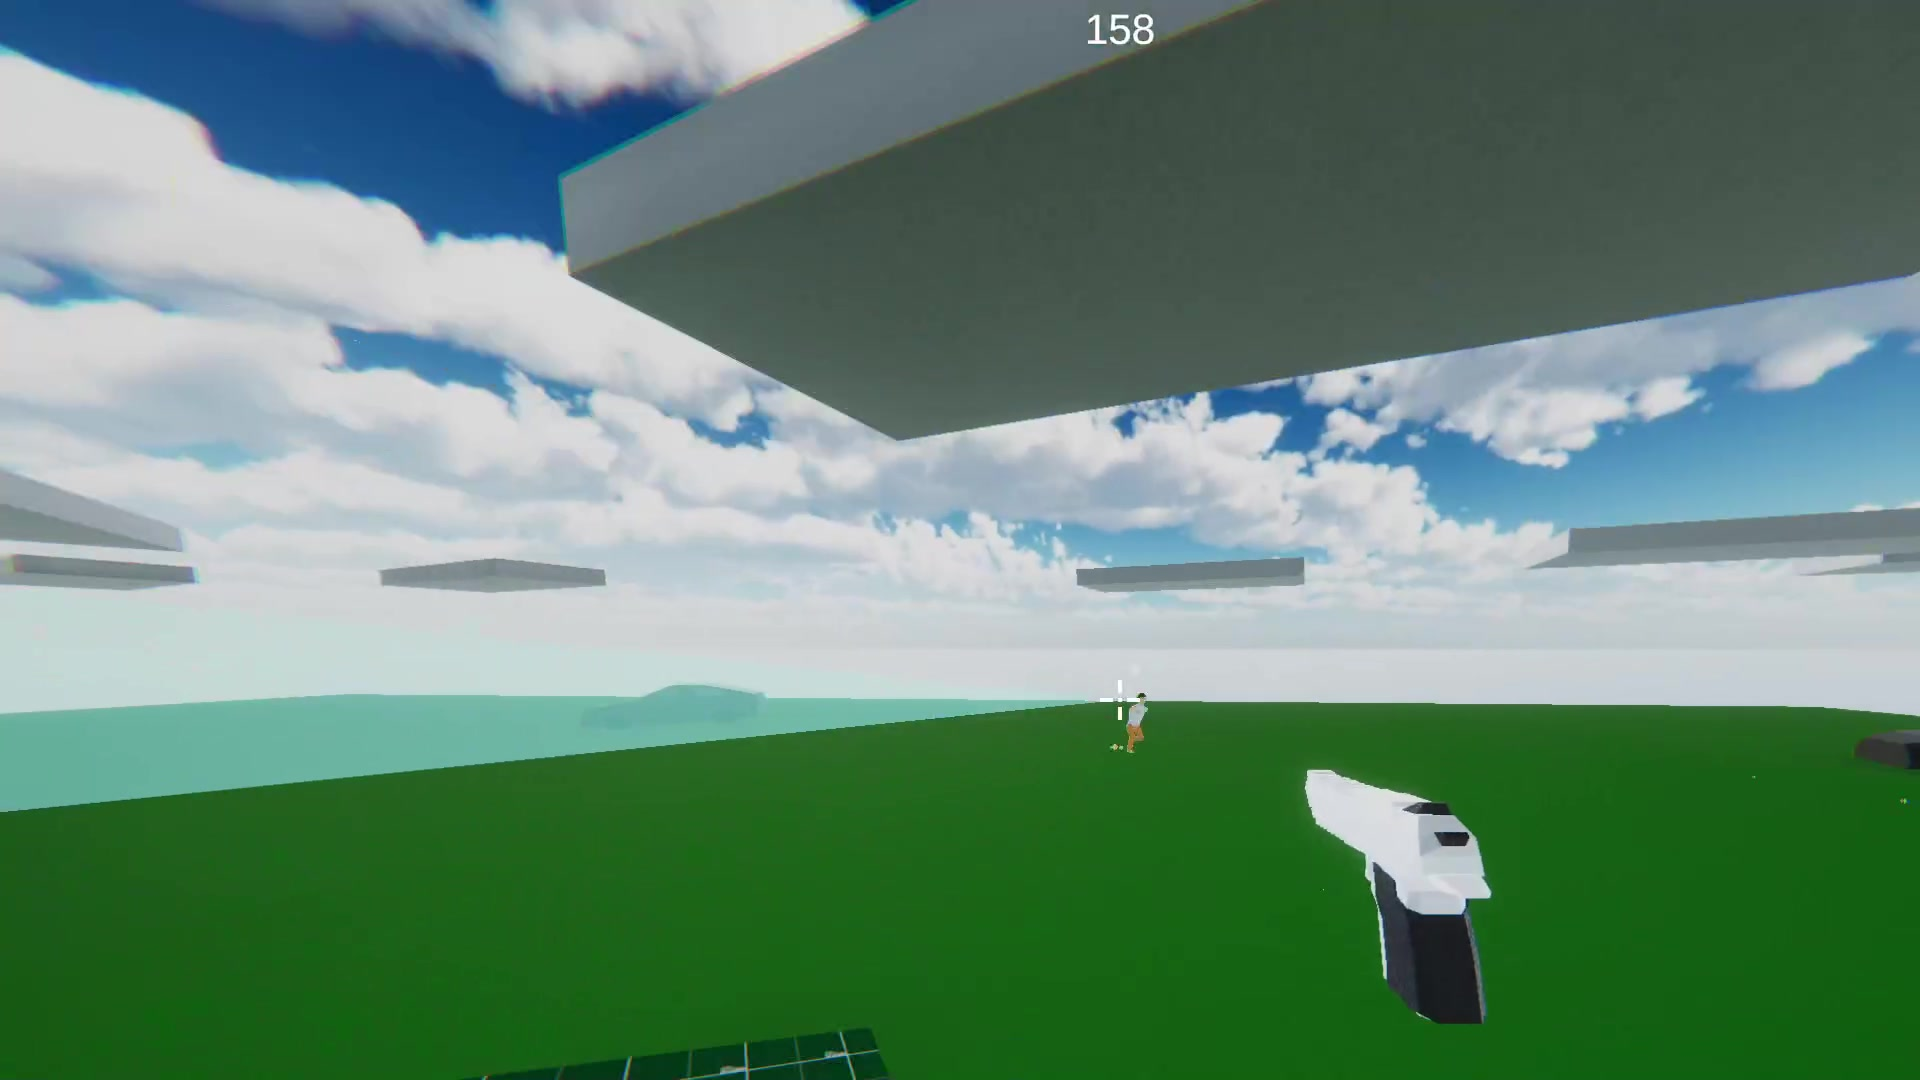human: (1126, 689, 1144, 752)
